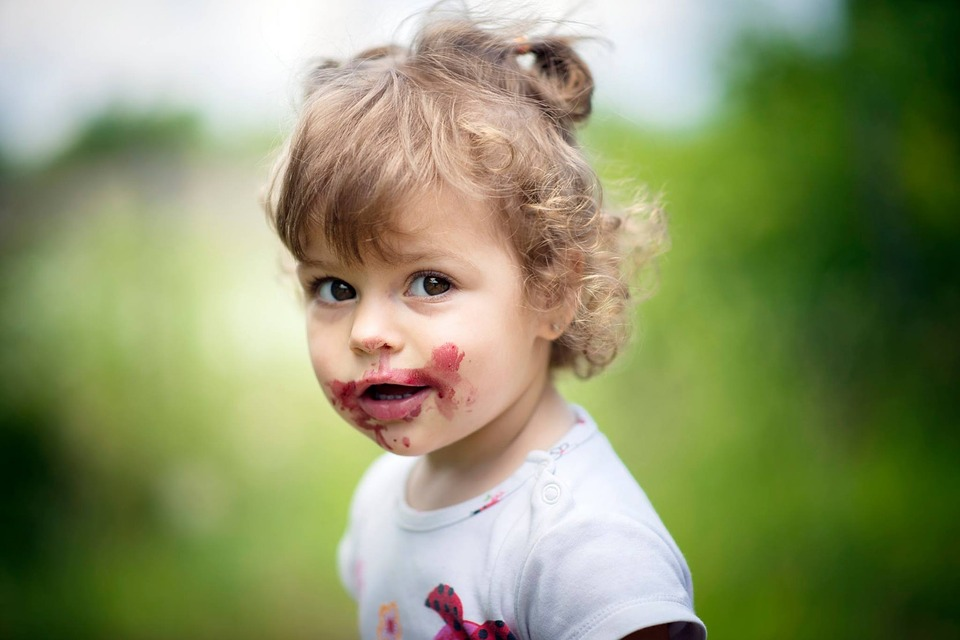happy: (286, 224, 526, 460)
